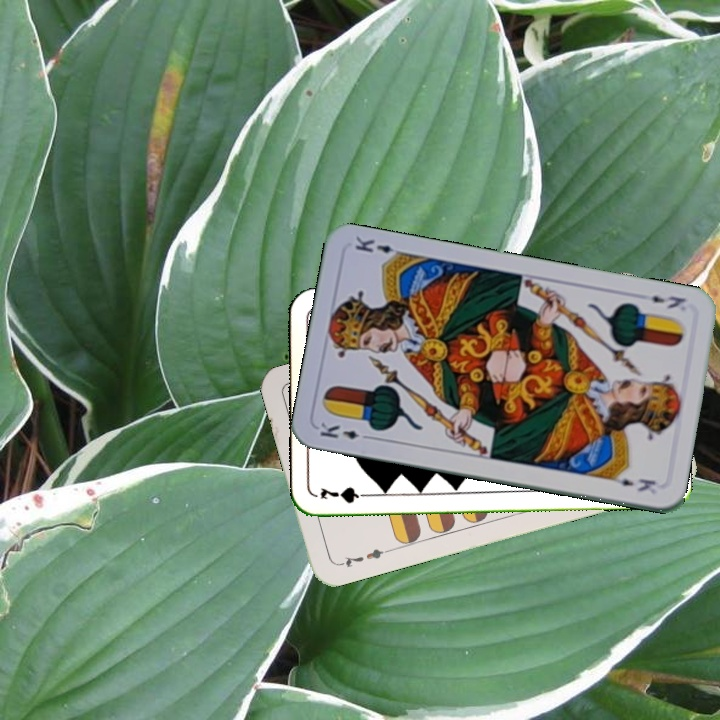E7: (334, 544, 392, 570)
EK: (316, 418, 374, 442), (647, 291, 688, 312)
G7: (316, 483, 375, 506)
